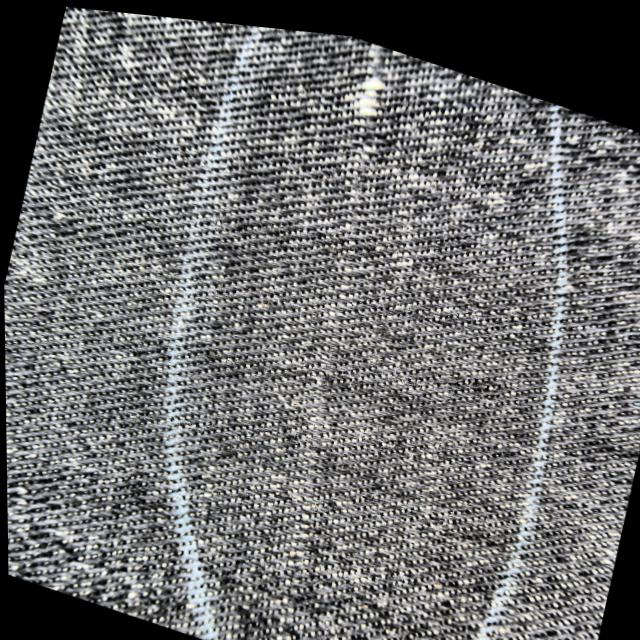Hole: (348, 53, 393, 115)
